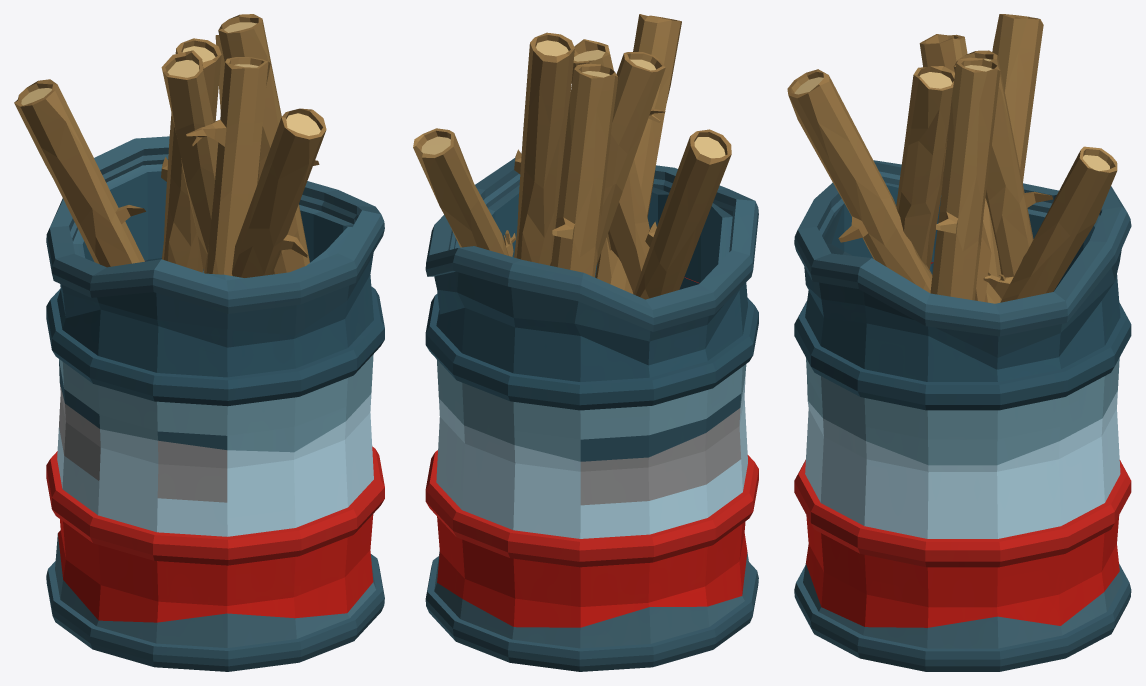
Rendered from burning_barell.glb.
3 views of the same model, side by side, from view 1: azimuth 30°, elevation 25°; view 2: azimuth 150°, elevation 25°; view 3: azimuth 270°, elevation 25° (orthographic).
Visible parts, largest first — view 1: barell, log_5.004, log_6.002, log_5.005, log_4.002, log_5.002, log_5.003; view 2: barell, log_5.003, log_5.002, log_5.004, log_3.002, log_4.002, log_5.005, log_6.002; view 3: barell, log_5.003, log_5.005, log_3.002, log_6.002, log_5.002, log_5.004, log_4.002.
Part boxes in pixels (x1,y1,x2,y2): barell: (46, 136, 384, 671); log_5.004: (14, 79, 145, 267); log_6.002: (185, 57, 270, 275); log_5.005: (232, 108, 326, 277); log_4.002: (161, 50, 218, 273); log_5.002: (161, 38, 221, 272); log_5.003: (218, 14, 319, 274); barell: (425, 158, 758, 671); log_5.003: (514, 32, 574, 265); log_5.002: (551, 63, 618, 277); log_5.004: (634, 129, 731, 299); log_3.002: (413, 128, 515, 256); log_4.002: (550, 52, 665, 265); log_5.005: (595, 14, 681, 293); log_6.002: (571, 39, 665, 294); barell: (794, 160, 1131, 671); log_5.003: (930, 57, 1000, 300); log_5.005: (787, 69, 932, 293); log_3.002: (983, 146, 1117, 302); log_6.002: (896, 66, 954, 269); log_5.002: (953, 50, 1052, 277); log_5.004: (992, 14, 1043, 183); log_4.002: (919, 34, 1001, 303).
Bounding box in the file's own units: 0.7379 × 1.28 × 0.7135.
Materials: 1 (1 with a texture image).
